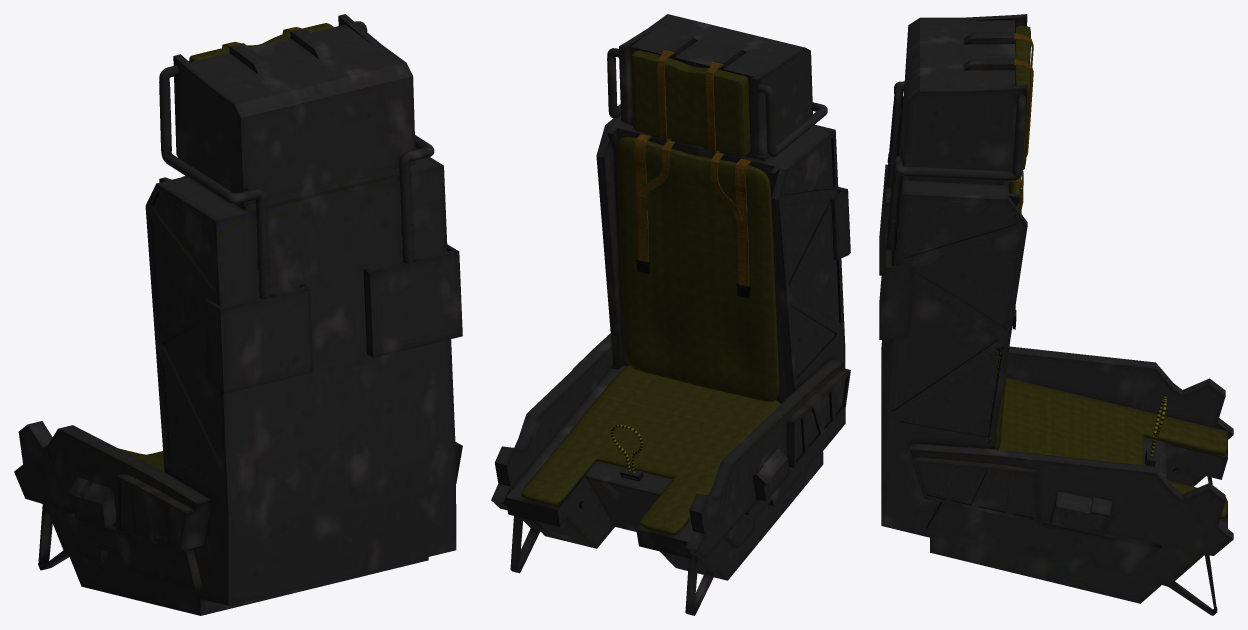
The model's file is seat.gltf.
The picture shows the model from 3 angles, left to right: view 1: azimuth 30°, elevation 25°; view 2: azimuth 150°, elevation 25°; view 3: azimuth 270°, elevation 25°; orthographic projection. The views are drawn at different scales.
Visible parts, largest first — view 1: Seat; view 2: Seat; view 3: Seat.
Boxes of the visible parts, left/top/right/bottom form: Seat: left=14, top=14, right=462, bottom=615; Seat: left=491, top=14, right=850, bottom=615; Seat: left=879, top=14, right=1233, bottom=615.
Size of the model in its own units: 0.696 by 1.35 by 0.8373.
Materials: 5 (5 with a texture image).
